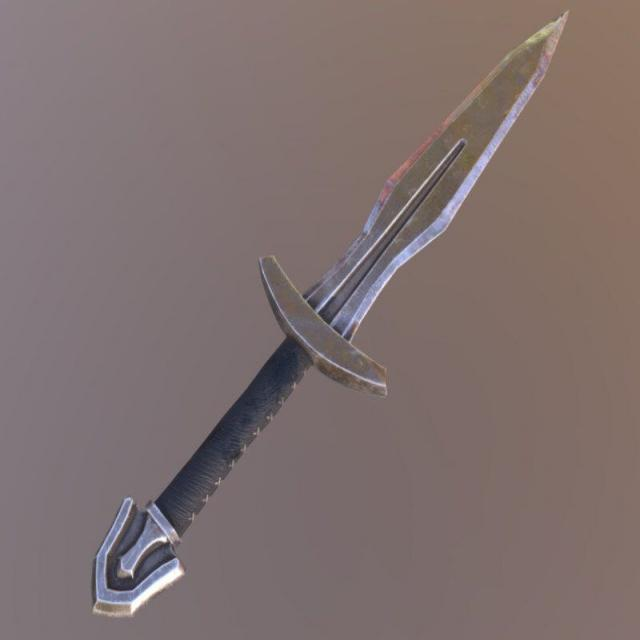short sword: (87, 8, 577, 628)
